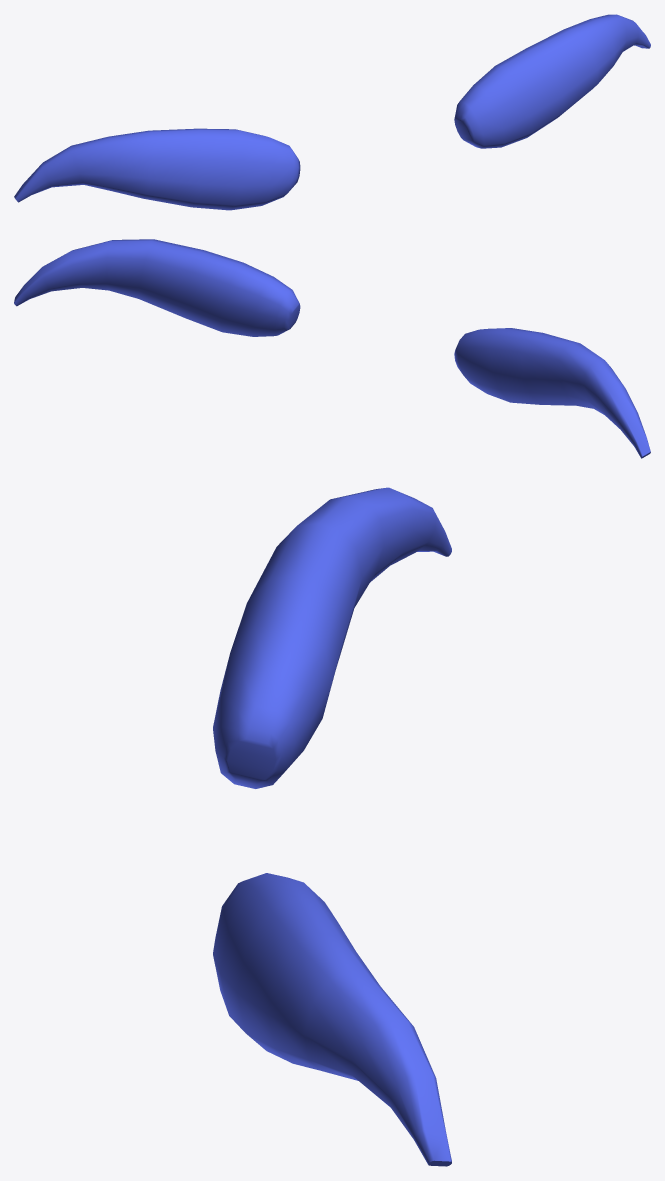
File: Eyebrows_23_03.fbx
3 views of the same model, one above another, from view 1: azimuth 30°, elevation 25°; view 2: azimuth 150°, elevation 25°; view 3: azimuth 270°, elevation 25° (orthographic). The views are drawn at different scales.
Parts seen in each view (by area): view 1: Eyebrows_23_03; view 2: Eyebrows_23_03; view 3: Eyebrows_23_03.
Boxes of the visible parts, left/top/right/bottom form: Eyebrows_23_03: left=14, top=14, right=650, bottom=210; Eyebrows_23_03: left=14, top=239, right=650, bottom=458; Eyebrows_23_03: left=213, top=487, right=451, bottom=1166.
Size of the model in its own units: 19.19 by 2.4 by 3.13.
